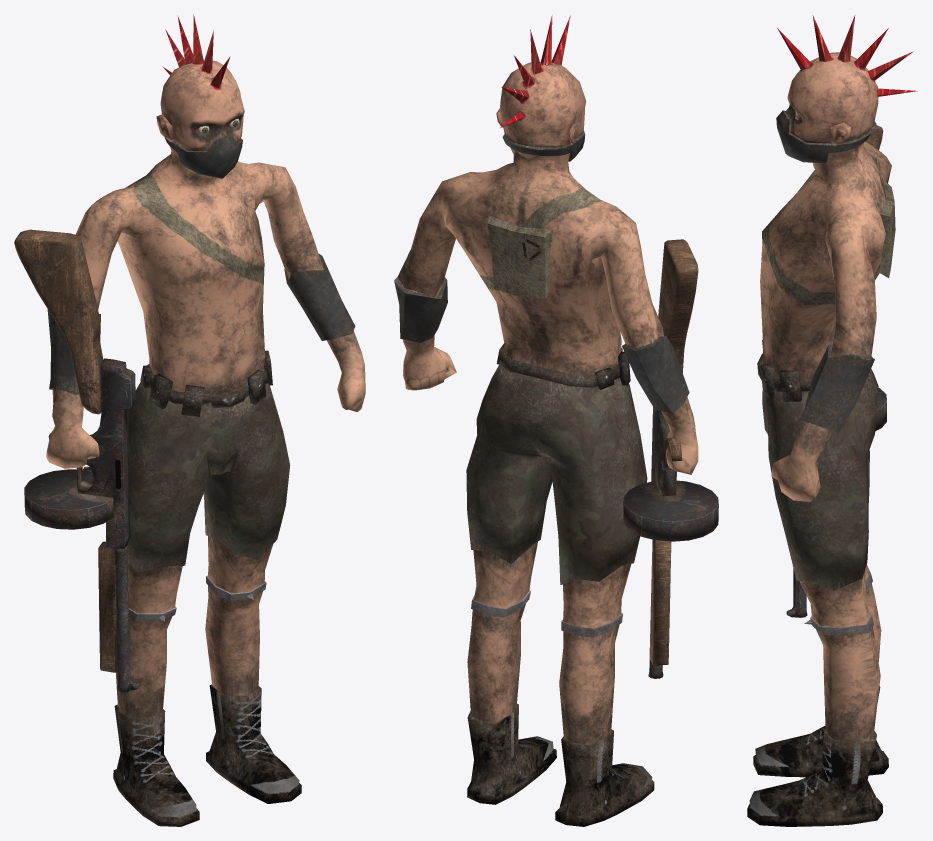
File: Anim_disparar_ametralladora_npc2.0012.obj
3 views of the same model, side by side, from view 1: azimuth 30°, elevation 25°; view 2: azimuth 150°, elevation 25°; view 3: azimuth 270°, elevation 25° (orthographic). The views are drawn at different scales.
Visible parts, largest first — view 1: polySurface1; view 2: polySurface1; view 3: polySurface1.
Boxes of the visible parts, left/top/right/bottom form: polySurface1: left=14, top=14, right=365, bottom=826; polySurface1: left=394, top=15, right=718, bottom=826; polySurface1: left=747, top=15, right=917, bottom=826.
Bounding box in the file's own units: 4.47 × 10.18 × 2.02.
